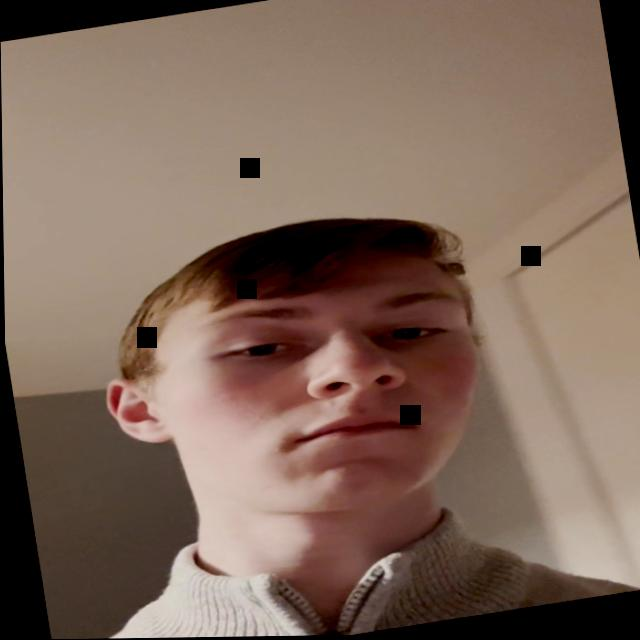NO-Mask: (111, 234, 515, 599)
